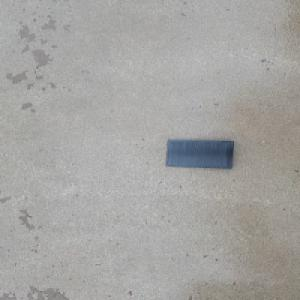PlasticPart: (165, 138, 237, 169)
